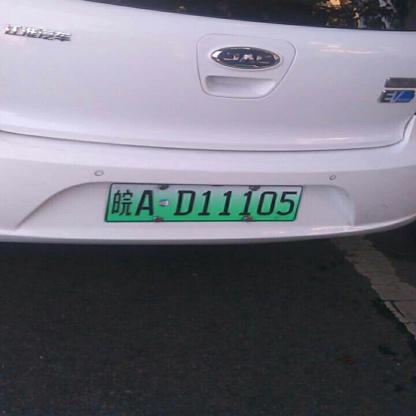lp: (108, 181, 302, 221)
